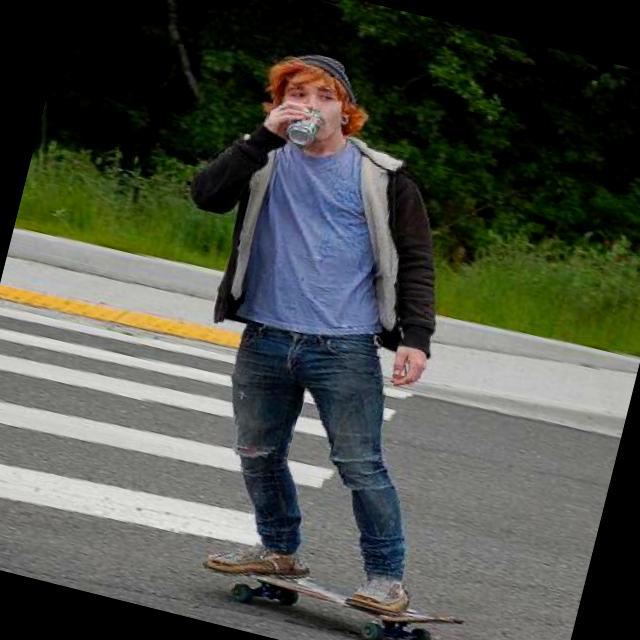Person: (96, 33, 537, 624)
